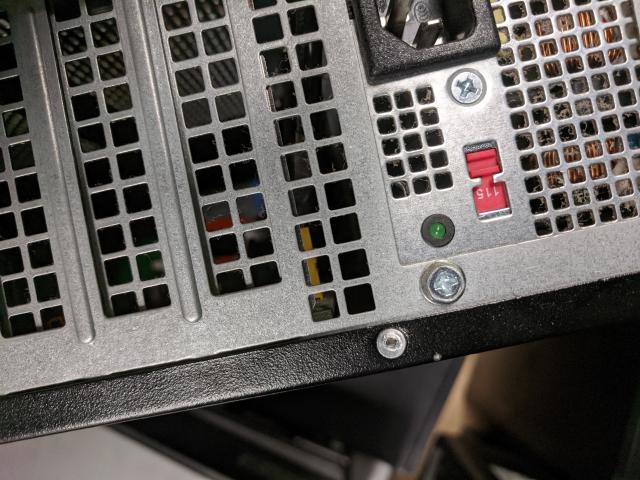CRS: (446, 66, 486, 107), (428, 266, 464, 302)
